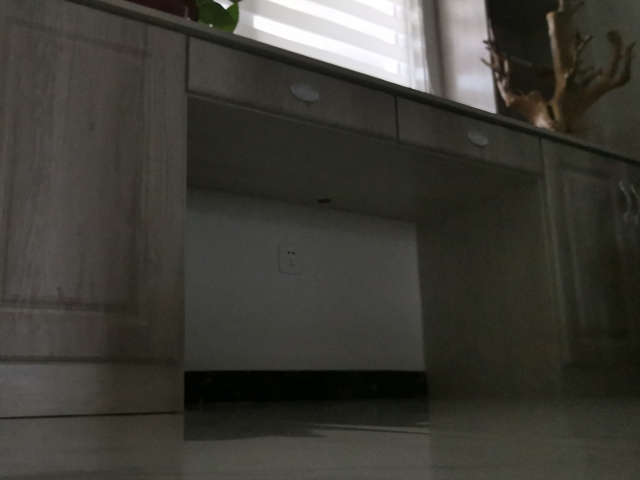cabinet: (1, 1, 187, 420), (535, 129, 632, 398)
